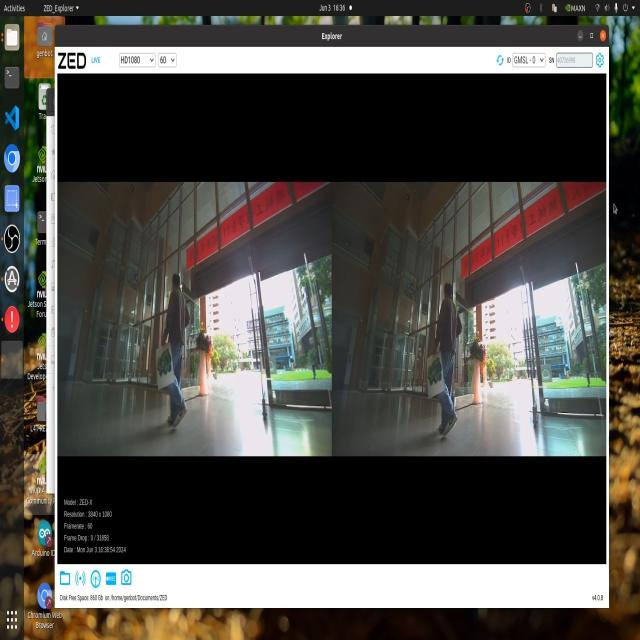green: (152, 345, 172, 386), (425, 353, 446, 390)
